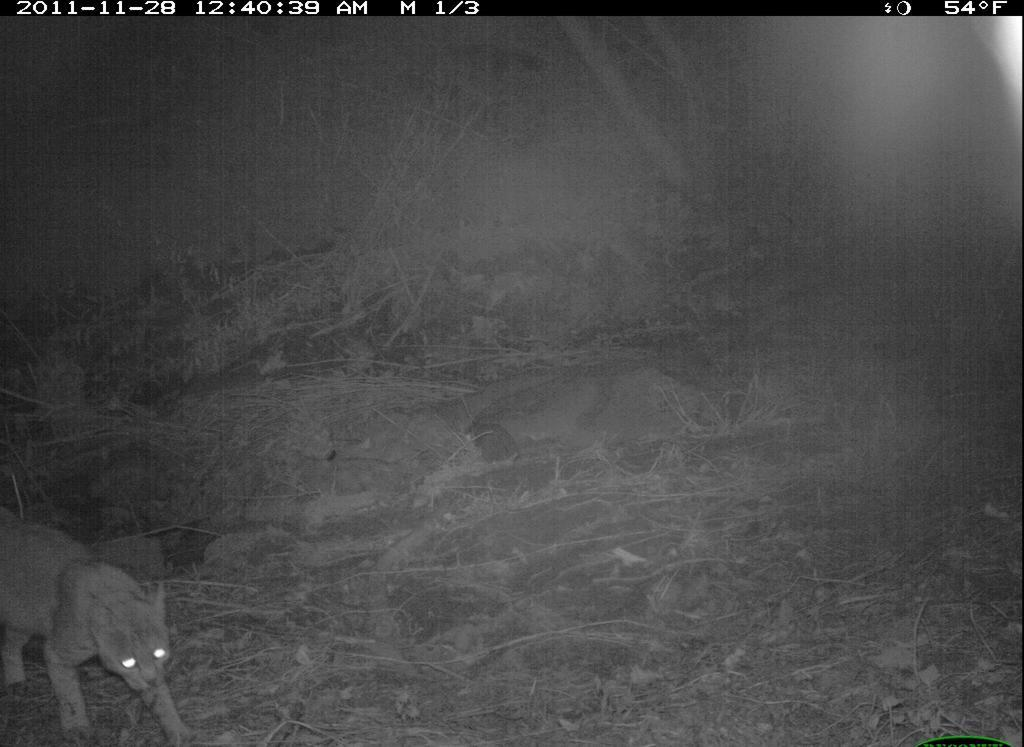bobcat: (4, 505, 204, 747)
